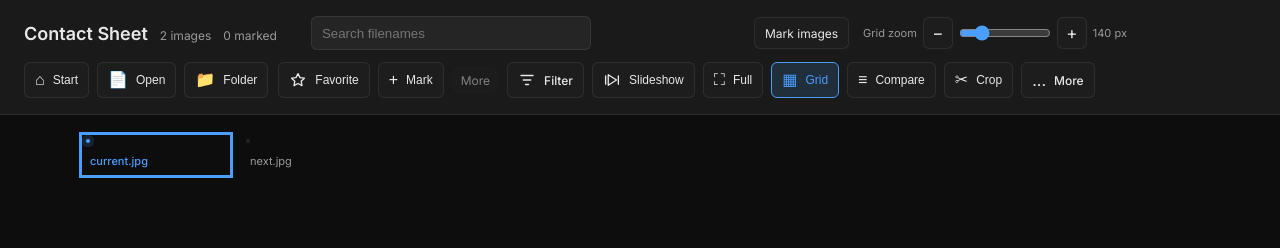
Test: ContactSheet › disables batch curation actions while a selected-image mutation is pending
The width and height of the screenshot is (1280, 248).
Click the text "current.jpg": [156, 155] box x1=86 y1=139 x2=226 y2=171
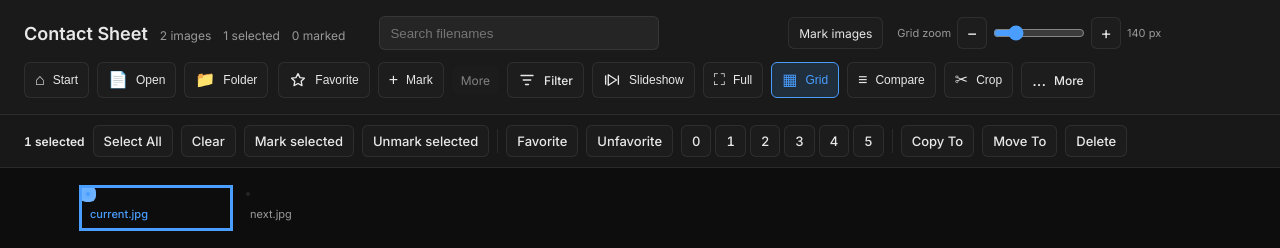
Click the button "Favorite" in the row of "Copy To": [542, 141] box x1=506 y1=125 x2=578 y2=157
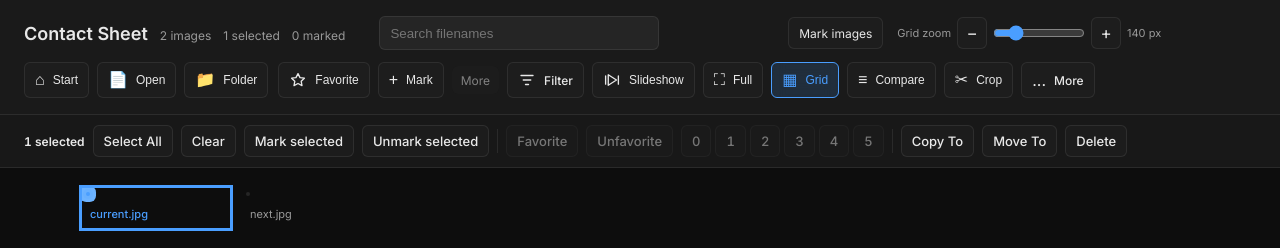
Check: the button named "Rate selected 5" is disabled
Click the button named "Rate selected 5": [868, 141] box x1=853 y1=125 x2=884 y2=157
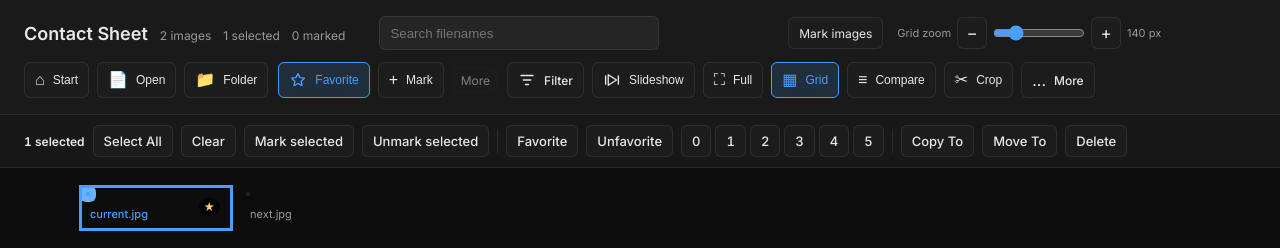
Check: the button named "Rate selected 5" is enabled, box x1=853 y1=125 x2=884 y2=157
